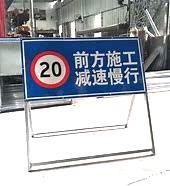sign: (21, 37, 150, 97)
